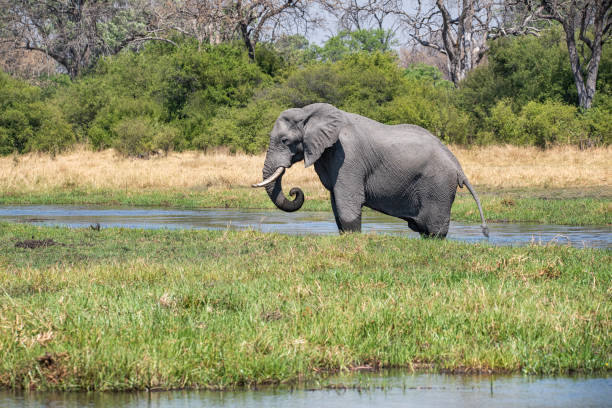africanelephant: (246, 110, 327, 215)
